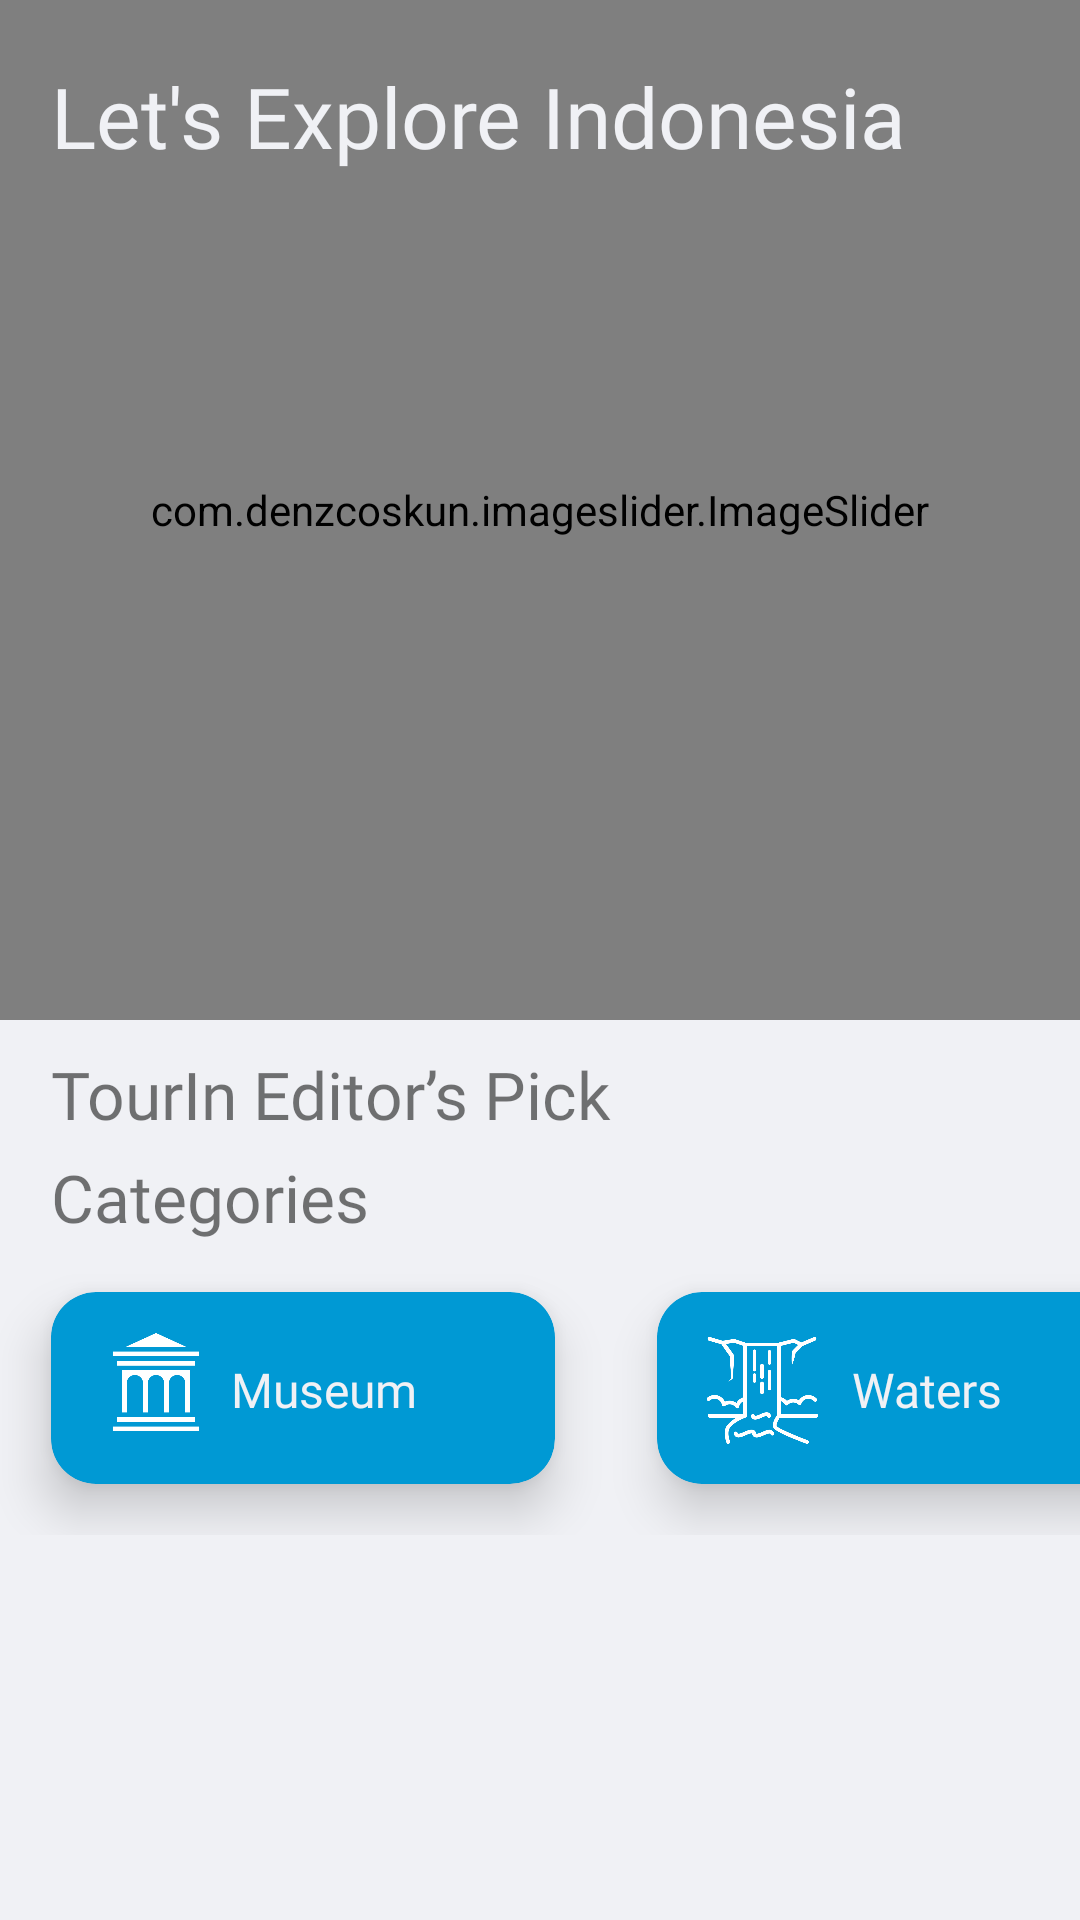

Screen size 1080px x 1920px. Icon name, then its center in pixels as (x=x, y=y):
newwaterfall: (x=762, y=1390)
